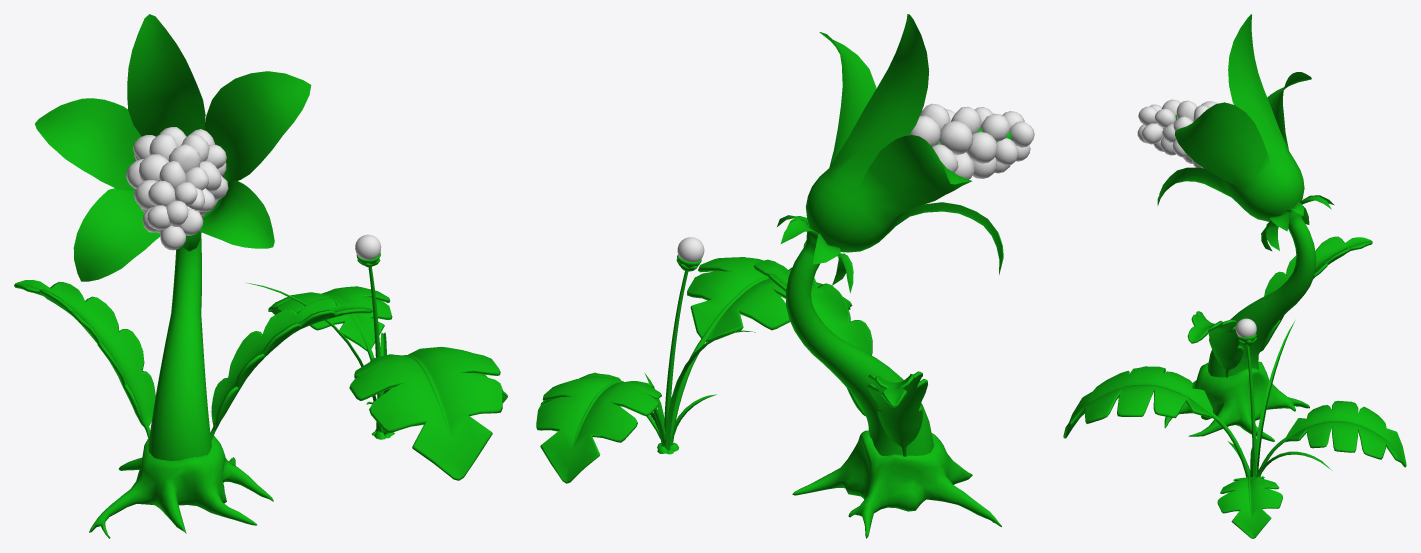
The model's file is BerryBush.fbx.
3 renders of one model, left to right at view 1: azimuth 30°, elevation 25°; view 2: azimuth 150°, elevation 25°; view 3: azimuth 270°, elevation 25°, orthographic. The views are drawn at different scales.
Visible parts, largest first — view 1: Berry plant body, Leaf, Stump, Barry plant leaf, Barry plant leaf.001, Leaf.002, Stribe, berry.016, berry.019; view 2: Berry plant body, Leaf.002, Stump, Leaf, Barry plant leaf, Barry plant leaf.001, Stribe, berry.019, berry.027, Blade_of_grass.002, berry.010, berry.032; view 3: Berry plant body, Leaf, Leaf.002, Stump, Leaf.001, Barry plant leaf.001, Barry plant leaf, Stribe, Blade_of_grass.002.
Part boxes in pixels (bbox=[...]): Berry plant body: bbox=[35, 14, 311, 460]; Leaf: bbox=[349, 346, 502, 480]; Stump: bbox=[89, 432, 273, 538]; Barry plant leaf: bbox=[14, 280, 155, 439]; Barry plant leaf.001: bbox=[210, 298, 372, 440]; Leaf.002: bbox=[268, 286, 392, 360]; Stribe: bbox=[356, 252, 382, 430]; berry.016: bbox=[168, 144, 200, 172]; berry.019: bbox=[139, 154, 168, 181]; Berry plant body: bbox=[777, 14, 1003, 455]; Leaf.002: bbox=[536, 376, 665, 483]; Stump: bbox=[792, 430, 1001, 538]; Leaf: bbox=[670, 257, 852, 445]; Barry plant leaf: bbox=[867, 371, 927, 456]; Barry plant leaf.001: bbox=[753, 259, 872, 415]; Stribe: bbox=[664, 255, 701, 447]; berry.019: bbox=[938, 120, 973, 155]; berry.027: bbox=[966, 131, 997, 163]; Blade_of_grass.002: bbox=[665, 330, 755, 449]; berry.010: bbox=[909, 115, 940, 146]; berry.032: bbox=[981, 113, 1010, 142]; Berry plant body: bbox=[1157, 14, 1334, 377]; Leaf: bbox=[1063, 366, 1250, 477]; Leaf.002: bbox=[1256, 400, 1406, 476]; Stump: bbox=[1164, 361, 1309, 441]; Leaf.001: bbox=[1217, 476, 1282, 538]; Barry plant leaf.001: bbox=[1187, 311, 1243, 377]; Barry plant leaf: bbox=[1259, 236, 1372, 353]; Stribe: bbox=[1237, 334, 1257, 475]; Blade_of_grass.002: bbox=[1256, 320, 1295, 472].
Bounding box in the file's own units: 226 × 245 × 190.
